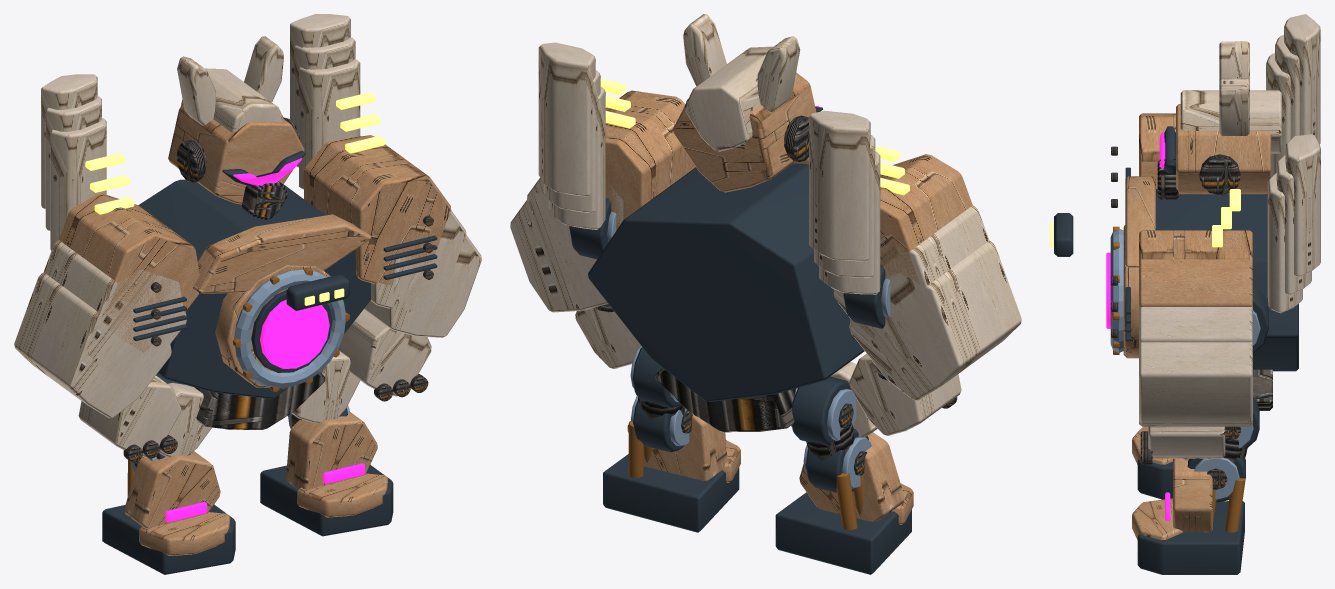
Rendered from sector_05_2.glb.
3 renders of one model, left to right at view 1: azimuth 30°, elevation 25°; view 2: azimuth 150°, elevation 25°; view 3: azimuth 270°, elevation 25°, orthographic. The views are drawn at different scales.
Visible parts, largest first — view 1: Navy crown, Upper chest plating, Reinforced heavy torso, Face guard, Greave armor, Greave armor.001, Reactor lens, Reactor concentric ring, Servo housing.001, Servo housing.004, Memory terminal contacts, Tapered thigh shield.001 (+1 smaller); view 2: Navy crown, Reinforced heavy torso, Upper chest plating, Servo housing.001, Servo housing.004, Face guard, Greave armor, Greave armor.001, Memory terminal contacts, Bearing ring.002, Hub.002, Calf piston (+4 smaller); view 3: Navy crown, Upper chest plating, Reinforced heavy torso, Servo housing.004, Greave armor.001, Face guard, Reactor concentric ring, Servo housing.001, Bearing ring.008, Hub.008, Memory terminal contacts, Calf piston.002 (+2 smaller).
Part boxes in pixels (x1=…): Navy crown: x1=14, y1=14, x2=481, y2=457; Upper chest plating: x1=59, y1=104, x2=451, y2=388; Reinforced heavy torso: x1=133, y1=150, x2=437, y2=398; Face guard: x1=123, y1=117, x2=433, y2=462; Greave armor: x1=124, y1=451, x2=230, y2=555; Greave armor.001: x1=286, y1=412, x2=387, y2=517; Reactor lens: x1=233, y1=158, x2=329, y2=368; Reactor concentric ring: x1=234, y1=269, x2=345, y2=387; Servo housing.001: x1=102, y1=373, x2=235, y2=574; Servo housing.004: x1=260, y1=408, x2=393, y2=536; Memory terminal contacts: x1=85, y1=92, x2=384, y2=305; Tapered thigh shield.001: x1=292, y1=351, x2=360, y2=423; Navy crown: x1=510, y1=14, x2=1021, y2=435; Reinforced heavy torso: x1=569, y1=107, x2=885, y2=401; Upper chest plating: x1=568, y1=73, x2=972, y2=293; Servo housing.001: x1=775, y1=376, x2=911, y2=574; Servo housing.004: x1=603, y1=347, x2=739, y2=532; Face guard: x1=595, y1=99, x2=957, y2=432; Greave armor: x1=799, y1=432, x2=913, y2=524; Greave armor.001: x1=627, y1=414, x2=740, y2=482; Memory terminal contacts: x1=600, y1=79, x2=909, y2=195; Bearing ring.002: x1=791, y1=388, x2=871, y2=488; Hub.002: x1=806, y1=403, x2=867, y2=475; Calf piston: x1=836, y1=473, x2=863, y2=529; Navy crown: x1=1139, y1=14, x2=1320, y2=458; Upper chest plating: x1=1123, y1=104, x2=1271, y2=358; Reinforced heavy torso: x1=1054, y1=126, x2=1298, y2=371; Servo housing.004: x1=1137, y1=397, x2=1259, y2=574; Greave armor.001: x1=1132, y1=458, x2=1212, y2=540; Face guard: x1=1111, y1=146, x2=1272, y2=464; Reactor concentric ring: x1=1110, y1=229, x2=1260, y2=352; Servo housing.001: x1=1137, y1=459, x2=1172, y2=499; Bearing ring.008: x1=1194, y1=424, x2=1253, y2=499; Hub.008: x1=1207, y1=426, x2=1247, y2=489; Memory terminal contacts: x1=1050, y1=189, x2=1240, y2=247; Calf piston.002: x1=1202, y1=478, x2=1245, y2=532.
Size of the model in its own units: 1.52 by 1.64 by 0.8807.
8 materials, 3 textured.
